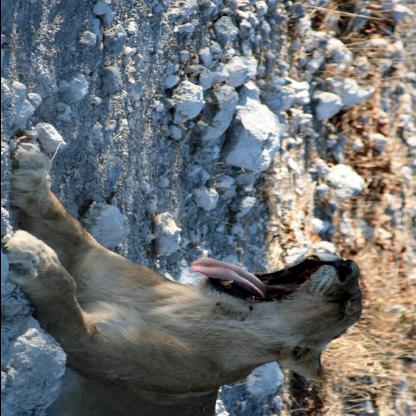lion: (187, 242, 367, 386)
